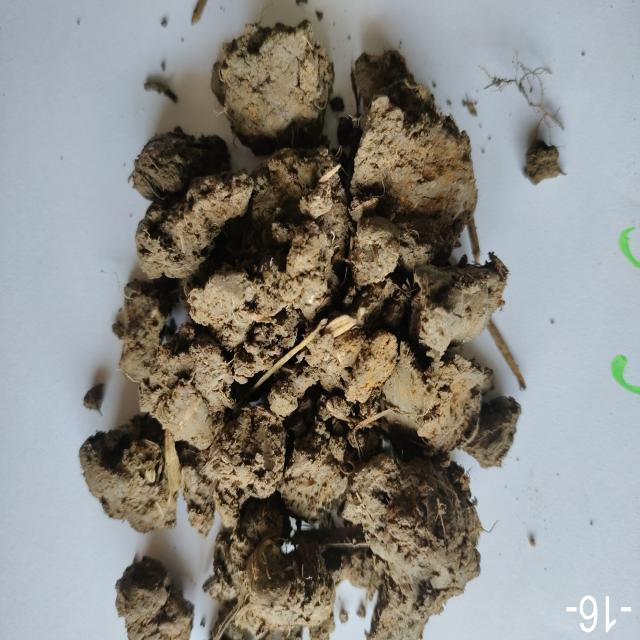soil: (190, 170, 432, 538)
